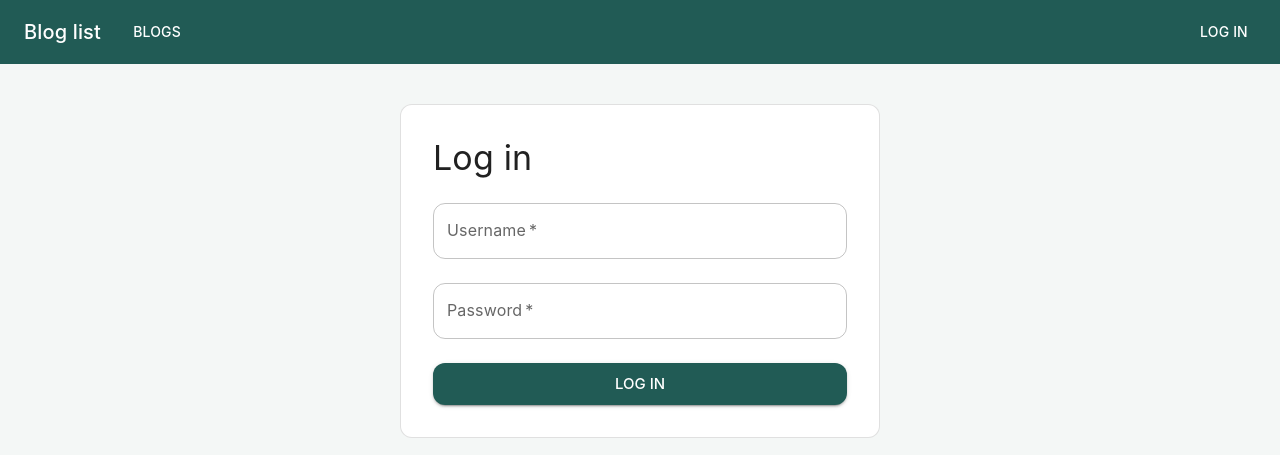
Test: Blog list › guards duplicate login submissions and ignores the old public load after signing in
Type "alice" into the field labelled "Username" at (640, 231), box x1=433 y1=203 x2=847 y2=259
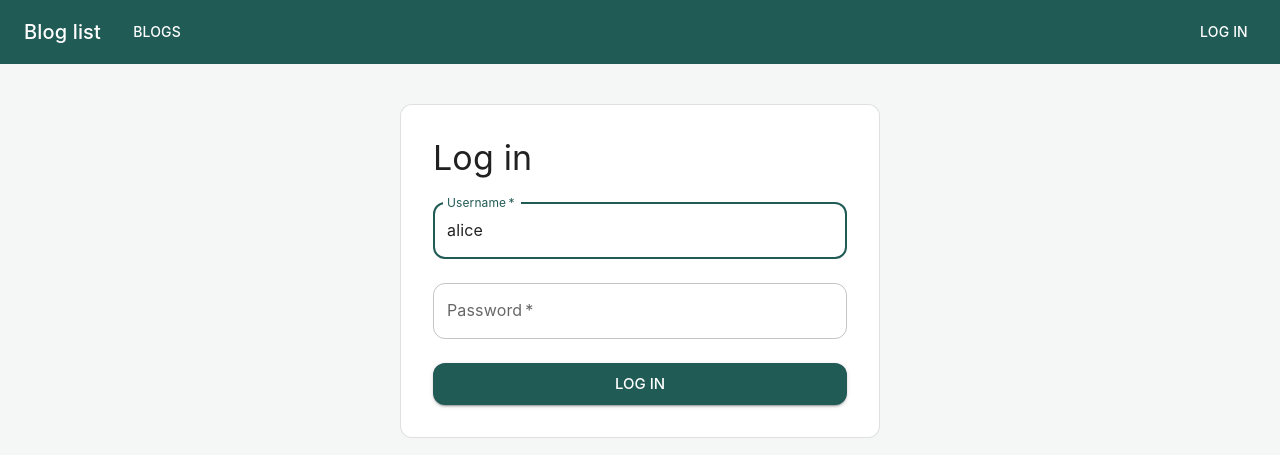
Type "secret" into the password field labelled "Password" at (640, 311), box x1=433 y1=283 x2=847 y2=339
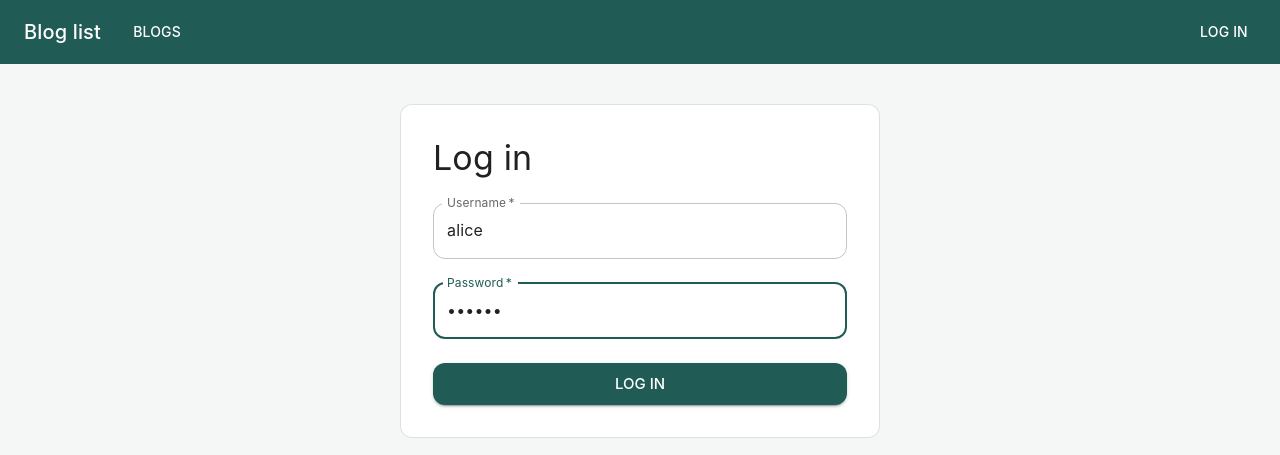
Click the button "Log in" at (640, 384), box x1=433 y1=363 x2=847 y2=405
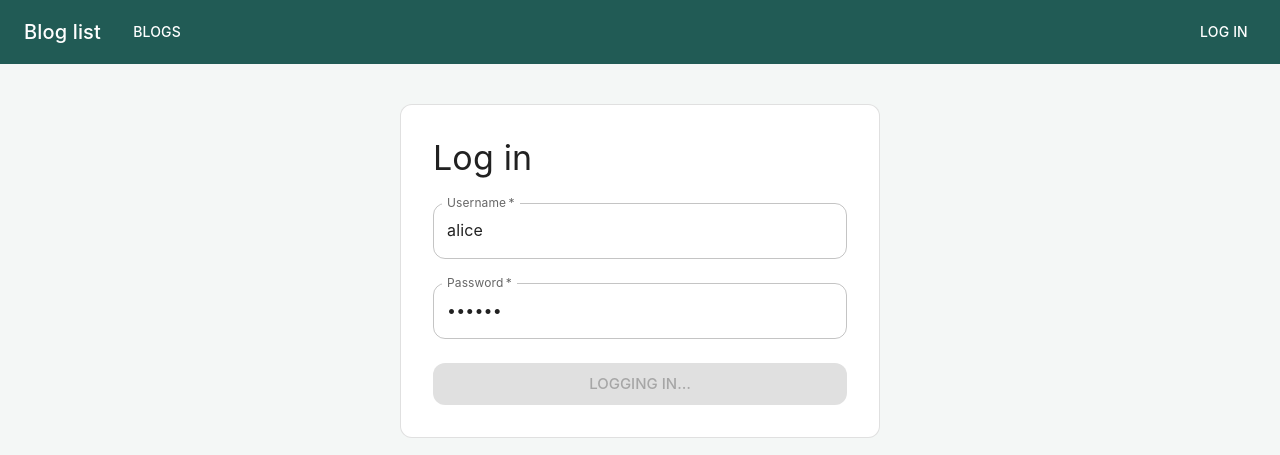
Result: the button "Logging in…" is disabled at x1=433 y1=363 x2=847 y2=405
Submit the form "Log in", box x1=400 y1=104 x2=880 y2=438
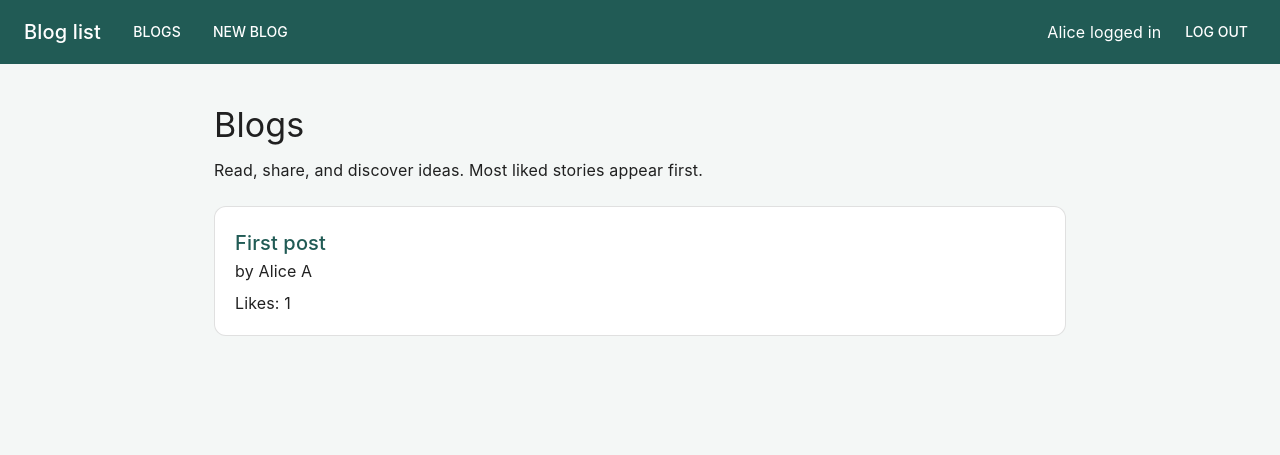
Result: the link "First post" is shown at x1=235 y1=231 x2=326 y2=255
